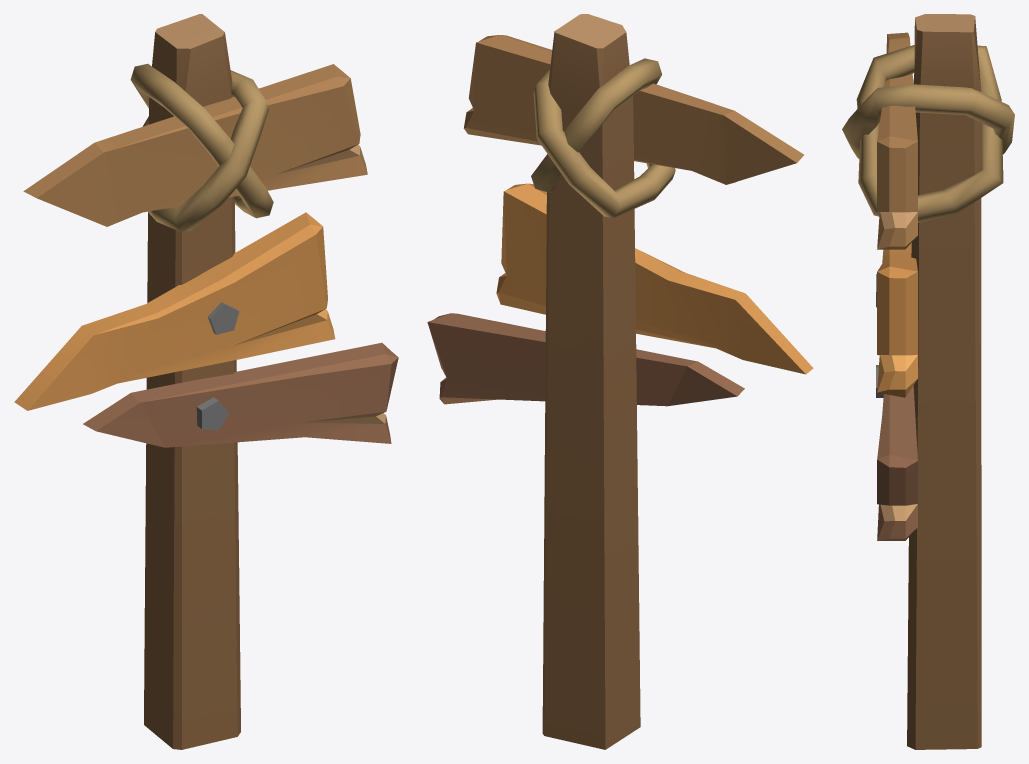
Rendered from Signpost_F.fbx.
3 views of the same model, side by side, from view 1: azimuth 30°, elevation 25°; view 2: azimuth 150°, elevation 25°; view 3: azimuth 270°, elevation 25° (orthographic).
Visible parts, largest first — view 1: Signpost_F; view 2: Signpost_F; view 3: Signpost_F.
Boxes of the visible parts, x1,y1,x2,y2 form: Signpost_F: (14,14,398,749); Signpost_F: (427,14,813,749); Signpost_F: (842,14,1014,749).
Size of the model in its own units: 109 by 193 by 42.55.
